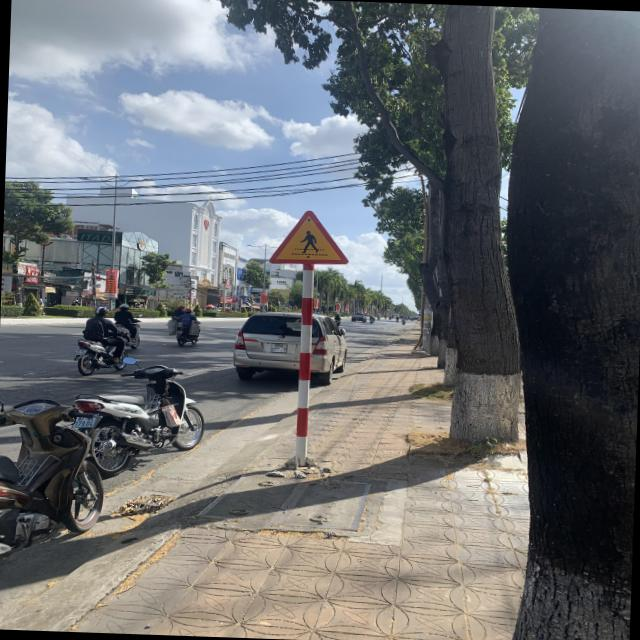Duong_Nguoi_Di_Bo_Sang_Ngang: (268, 208, 350, 266)
